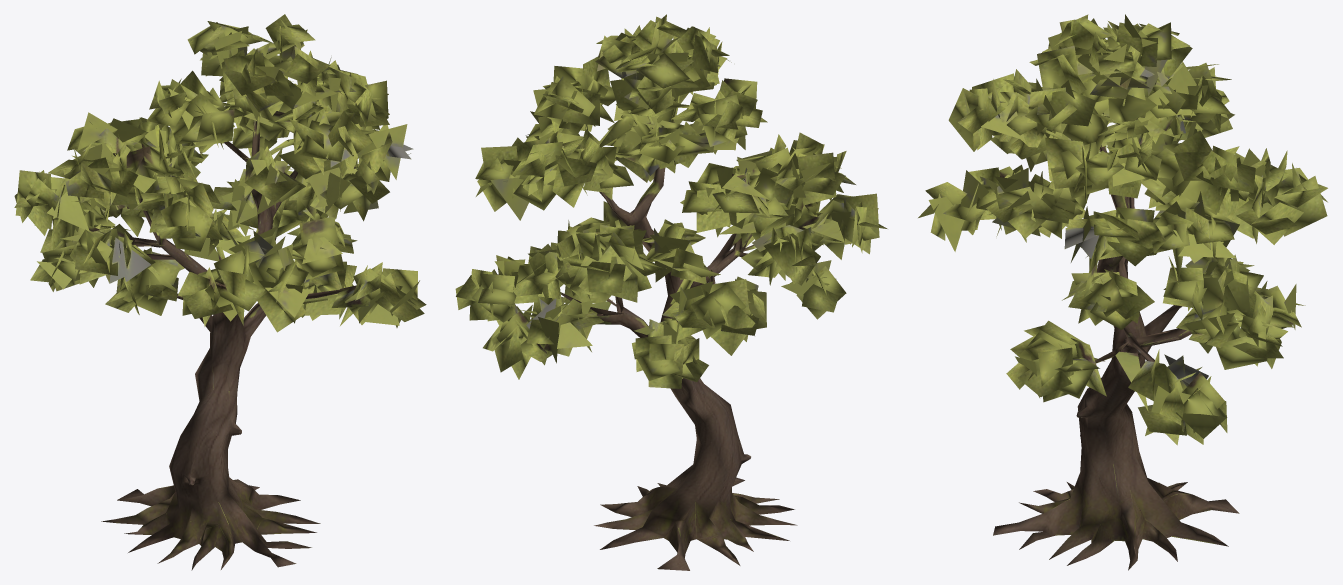
File: meadow-tree.glb
3 renders of one model, left to right at view 1: azimuth 30°, elevation 25°; view 2: azimuth 150°, elevation 25°; view 3: azimuth 270°, elevation 25°, orthographic. The views are drawn at different scales.
Parts seen in each view (by area): view 1: Mesh_0.001; view 2: Mesh_0.001; view 3: Mesh_0.001.
Boxes of the visible parts, x1,y1,x2,y2 form: Mesh_0.001: [14, 14, 426, 570]; Mesh_0.001: [455, 14, 887, 570]; Mesh_0.001: [918, 14, 1327, 570].
Bounding box in the file's own units: 6.11 × 8 × 5.78.
Materials: 1 (1 with a texture image).
